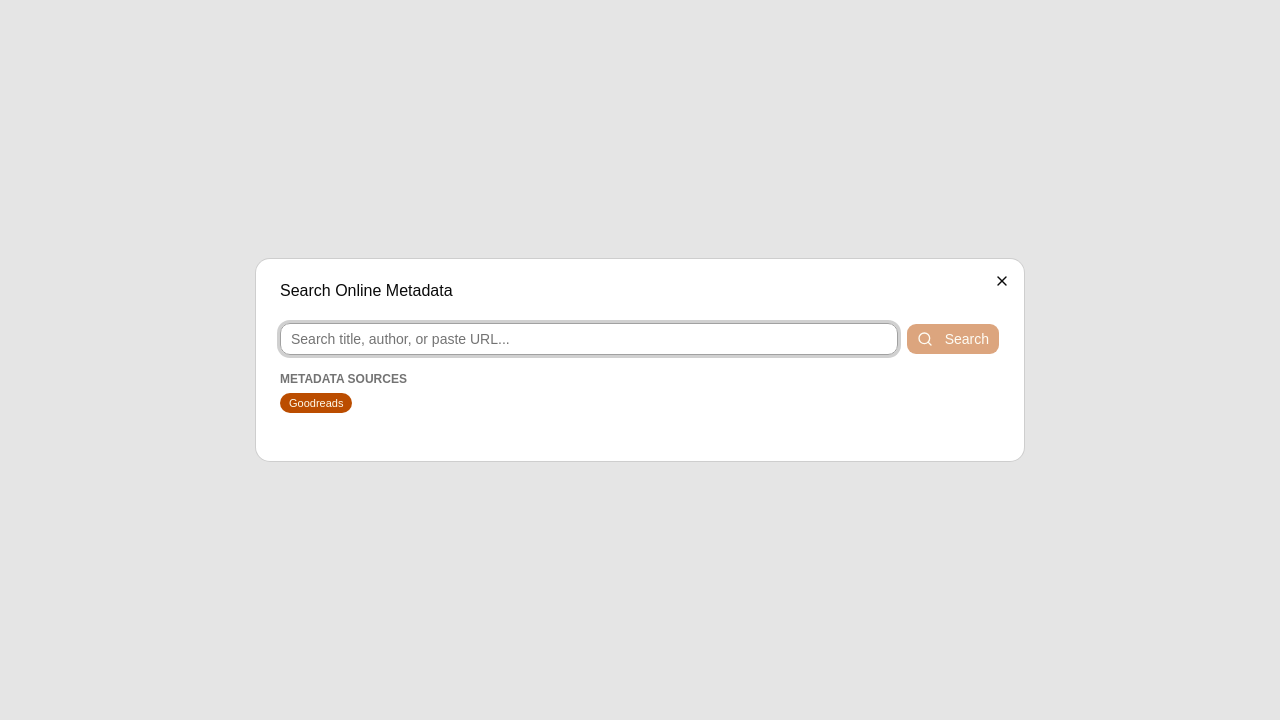
BookSearchDialog › reports a lone failed source as failed rather than as no results
The image size is (1280, 720).
Type "mole" into the field with placeholder "Search title, author, or paste URL...". click: (589, 339)
box: [280,323,898,355]
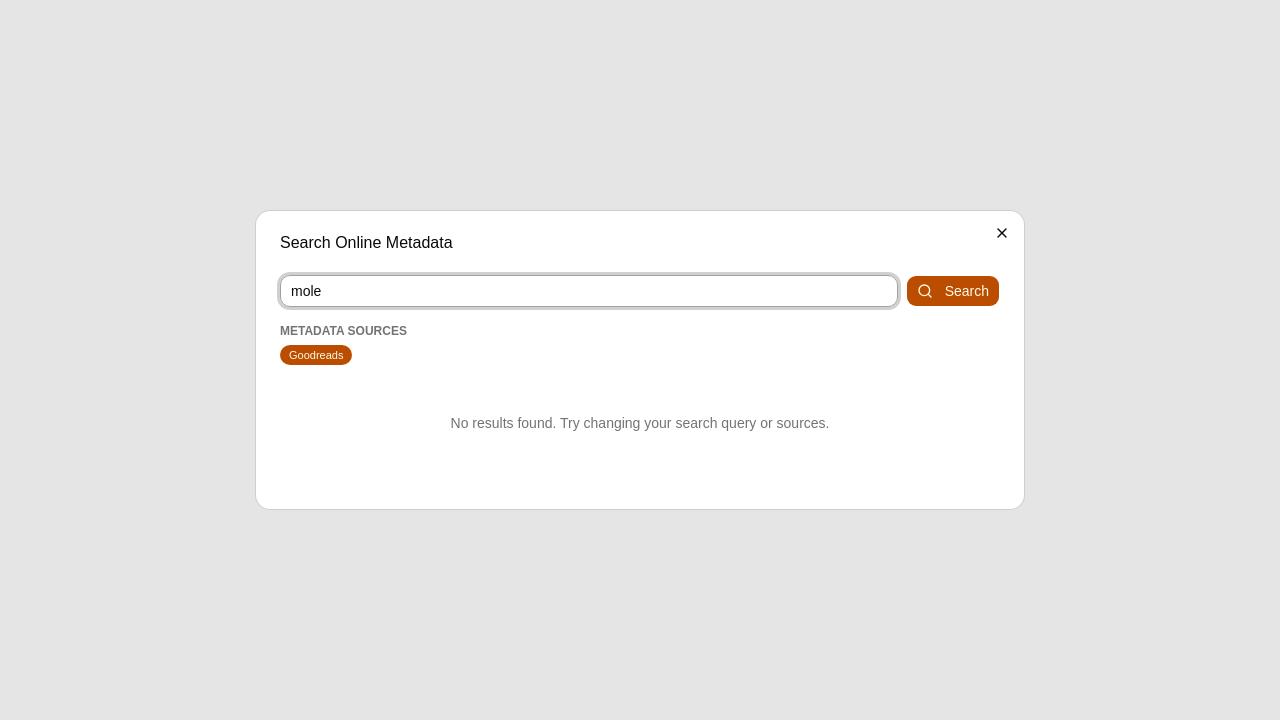
Click the button "Search". click: (953, 291)
box: [906,275,1000,307]
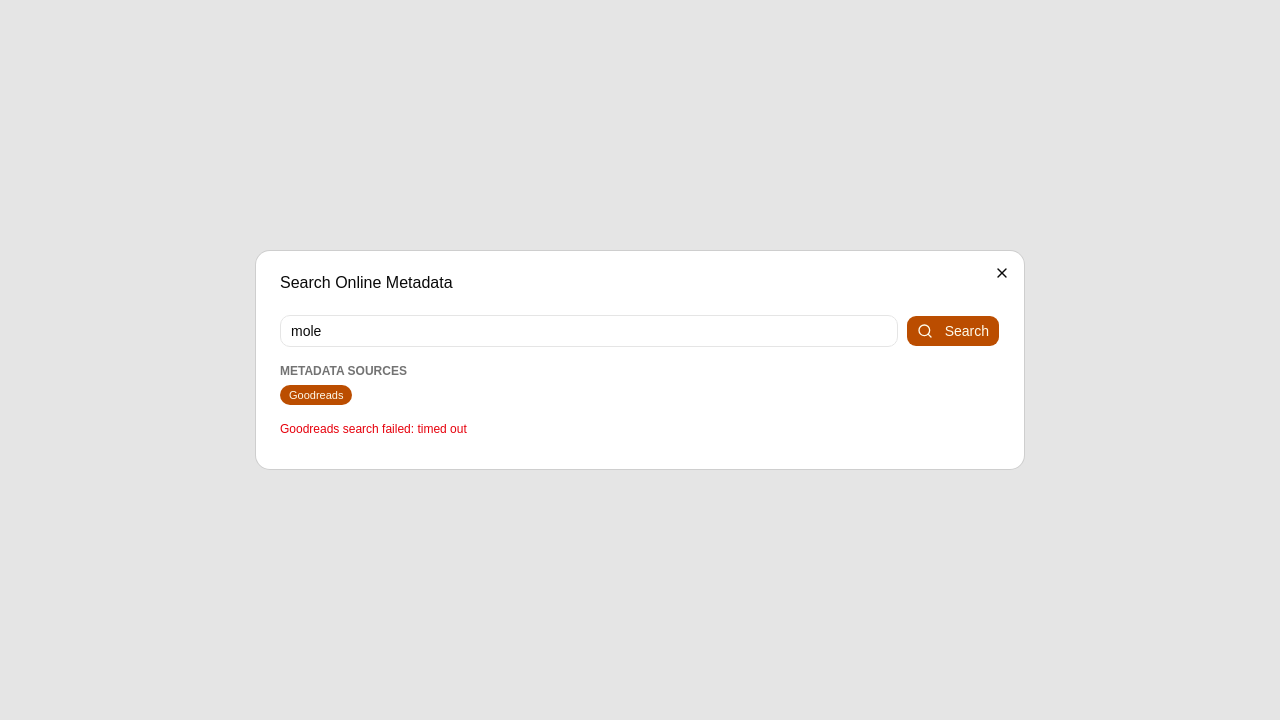
Expected: the text "Goodreads search failed: timed out" is shown, [280,422,467,436]
Expected: the text "No results found" is gone
